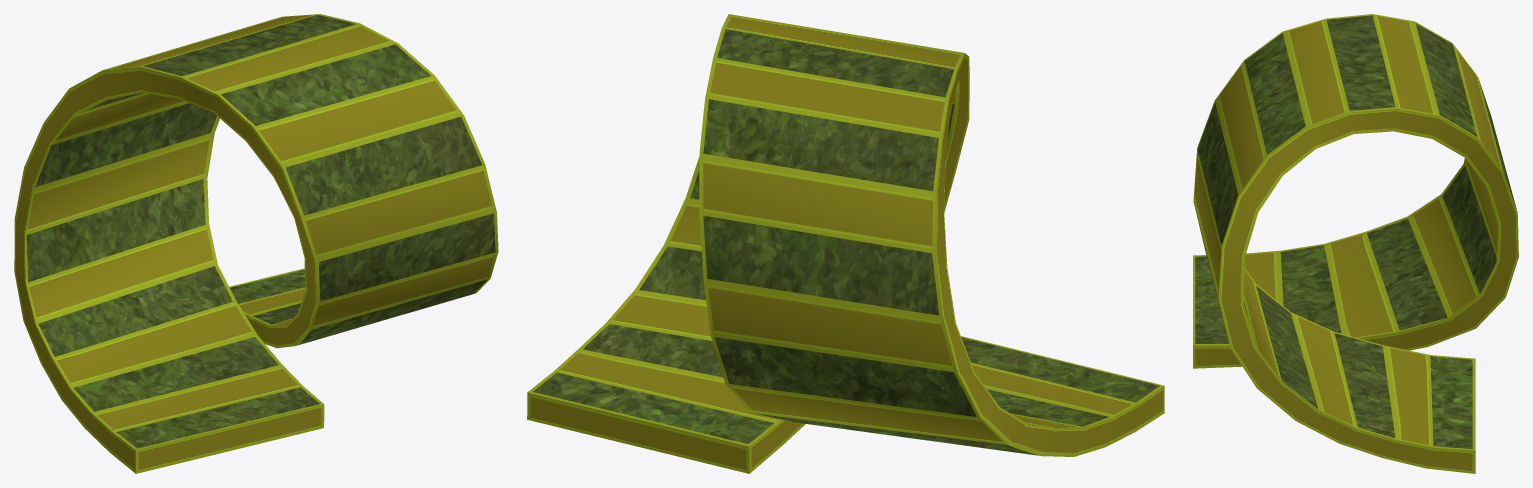
File: mountain_loop_small.gltf
3 renders of one model, left to right at view 1: azimuth 30°, elevation 25°; view 2: azimuth 150°, elevation 25°; view 3: azimuth 270°, elevation 25°, orthographic. The views are drawn at different scales.
Visible parts, largest first — view 1: mountain_loop_small_glb; view 2: mountain_loop_small_glb; view 3: mountain_loop_small_glb.
Boxes of the visible parts, x1,y1,x2,y2 form: mountain_loop_small_glb: [14, 14, 498, 473]; mountain_loop_small_glb: [527, 14, 1164, 473]; mountain_loop_small_glb: [1193, 14, 1518, 473].
Size of what is drawn, in the model's own units: 4.5 by 3.37 by 3.17.
2 materials, 2 textured.
